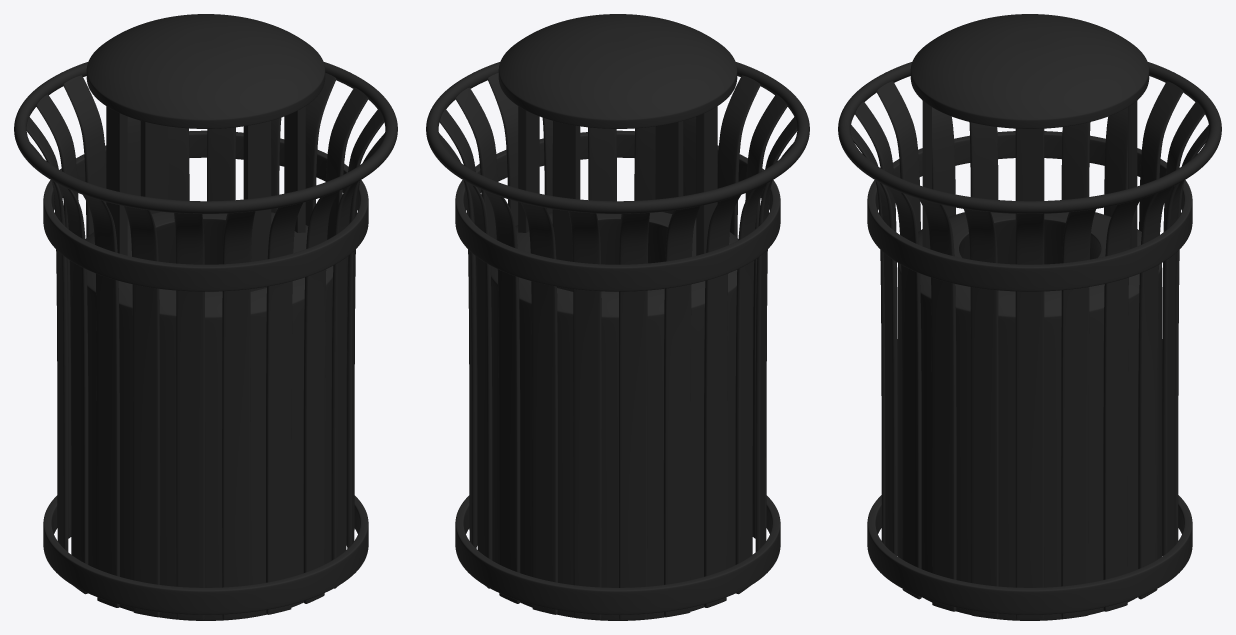
3 renders of one model, left to right at view 1: azimuth 30°, elevation 25°; view 2: azimuth 150°, elevation 25°; view 3: azimuth 270°, elevation 25°, orthographic.
Parts seen in each view (by area): view 1: trash bin; view 2: trash bin; view 3: trash bin.
Part boxes in pixels (x1=…): trash bin: x1=14, y1=14, x2=397, y2=620; trash bin: x1=426, y1=14, x2=809, y2=620; trash bin: x1=838, y1=14, x2=1221, y2=620.
Size of the model in its own units: 13.98 by 21.25 by 13.98.
Materials: 1 (1 with a texture image).
